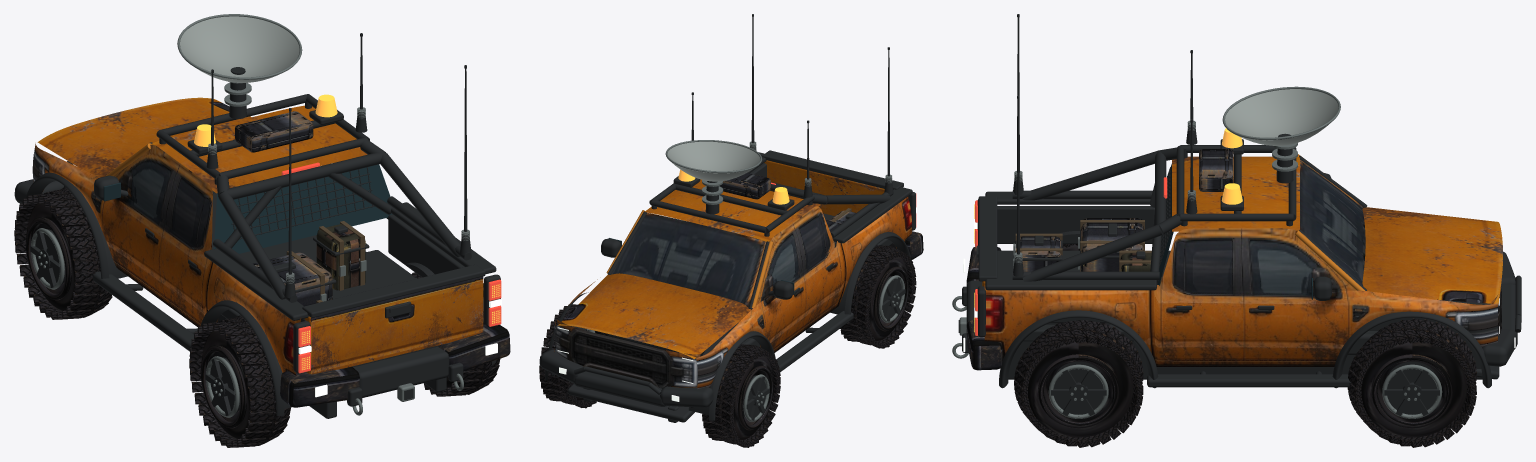
The model's file is interceptor-3d.glb.
The picture shows the model from 3 angles, left to right: view 1: azimuth 30°, elevation 25°; view 2: azimuth 150°, elevation 25°; view 3: azimuth 270°, elevation 25°; orthographic projection. The views are drawn at different scales.
Parts seen in each view (by area): view 1: Graphite armor6, Reference bodywork, Original orange patina2, Original orange patina, All terrain rubber2, All terrain rubber, Tinted glass, Dish aluminum, Textured graphite, Reference glazing, Equipment black, Graphite armor (+13 smaller); view 2: Graphite armor6, Original orange patina2, Reference glazing, Reference bodywork, Reference fascia, All terrain rubber, All terrain rubber2, Dish aluminum, Original orange patina, Graphite armor, All terrain rubber3, Equipment black (+9 smaller); view 3: Graphite armor6, Reference bodywork, Original orange patina2, Reference glazing, All terrain rubber3, All terrain rubber4, Dish aluminum, Equipment black, Graphite armor10, Graphite armor9, Graphite armor, Textured graphite (+8 smaller).
Part boxes in pixels (x1,y1,x2,y2): Graphite armor6: (14, 67, 500, 418); Reference bodywork: (32, 143, 301, 375); Original orange patina2: (37, 97, 367, 193); Original orange patina: (304, 276, 483, 374); All terrain rubber2: (189, 315, 290, 447); All terrain rubber: (14, 187, 112, 319); Tinted glass: (103, 164, 392, 253); Dish aluminum: (180, 16, 299, 82); Textured graphite: (280, 324, 510, 407); Reference glazing: (114, 154, 205, 246); Equipment black: (235, 111, 332, 306); Graphite armor: (302, 264, 485, 318); Graphite armor6: (539, 152, 915, 422); Original orange patina2: (557, 179, 820, 359); Reference glazing: (611, 212, 830, 307); Reference bodywork: (553, 197, 911, 407); Reference fascia: (555, 320, 700, 388); All terrain rubber: (702, 344, 780, 447); All terrain rubber2: (840, 245, 916, 348); Dish aluminum: (667, 141, 760, 181); Original orange patina: (764, 160, 884, 215); Graphite armor: (762, 150, 903, 189); All terrain rubber3: (539, 304, 607, 408); Equipment black: (719, 173, 855, 231); Graphite armor6: (958, 133, 1521, 388); Reference bodywork: (984, 228, 1497, 366); Original orange patina2: (1172, 156, 1502, 304); Reference glazing: (1171, 160, 1365, 287); All terrain rubber3: (1347, 318, 1476, 447); All terrain rubber4: (1014, 320, 1143, 447); Dish aluminum: (1225, 89, 1338, 145); Equipment black: (1020, 149, 1233, 271); Graphite armor10: (1051, 361, 1106, 415); Graphite armor9: (1384, 361, 1439, 415); Graphite armor: (976, 196, 997, 281); Textured graphite: (966, 247, 1002, 370).
Bounding box in the file's own units: 3.02 × 3.92 × 6.05.
17 materials, 8 textured.
